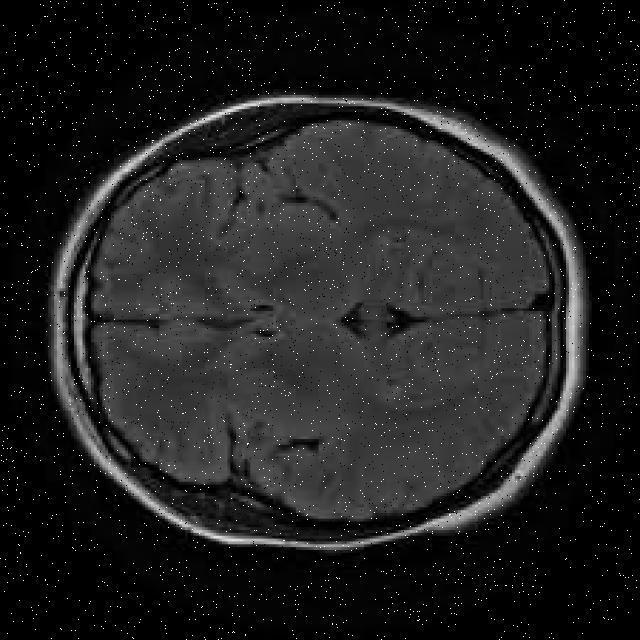No_Tumor: (49, 95, 587, 550)
